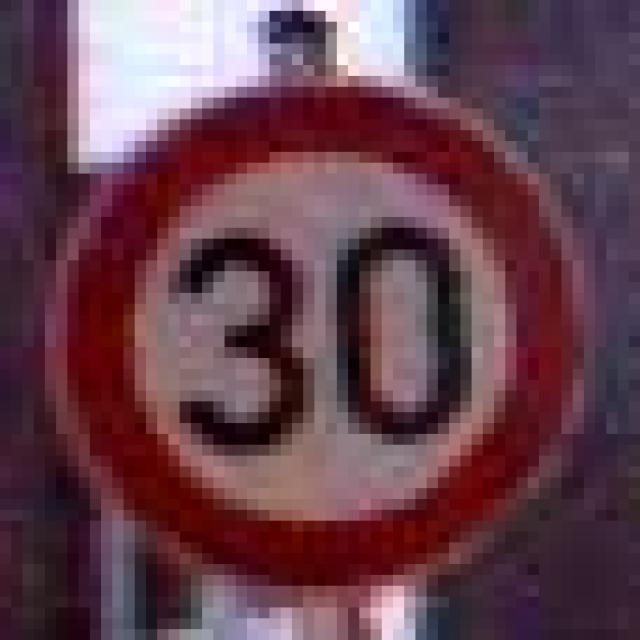speed limit 30: (44, 82, 598, 593)
